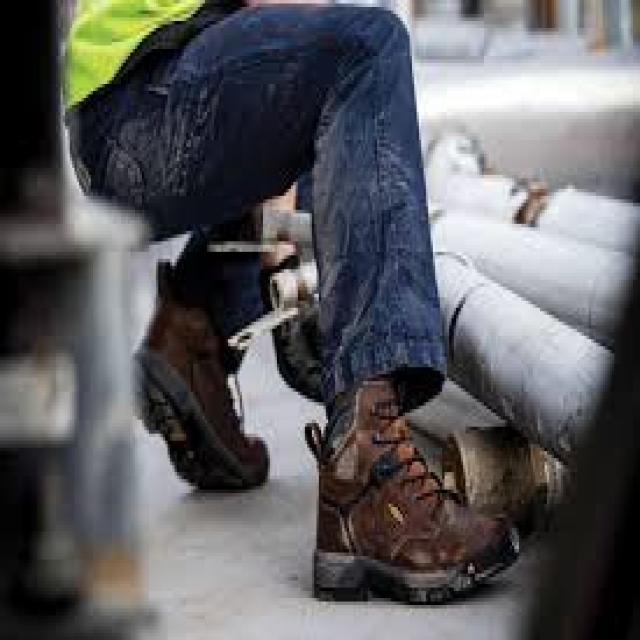shoes: (306, 377, 522, 602), (136, 290, 278, 492)
